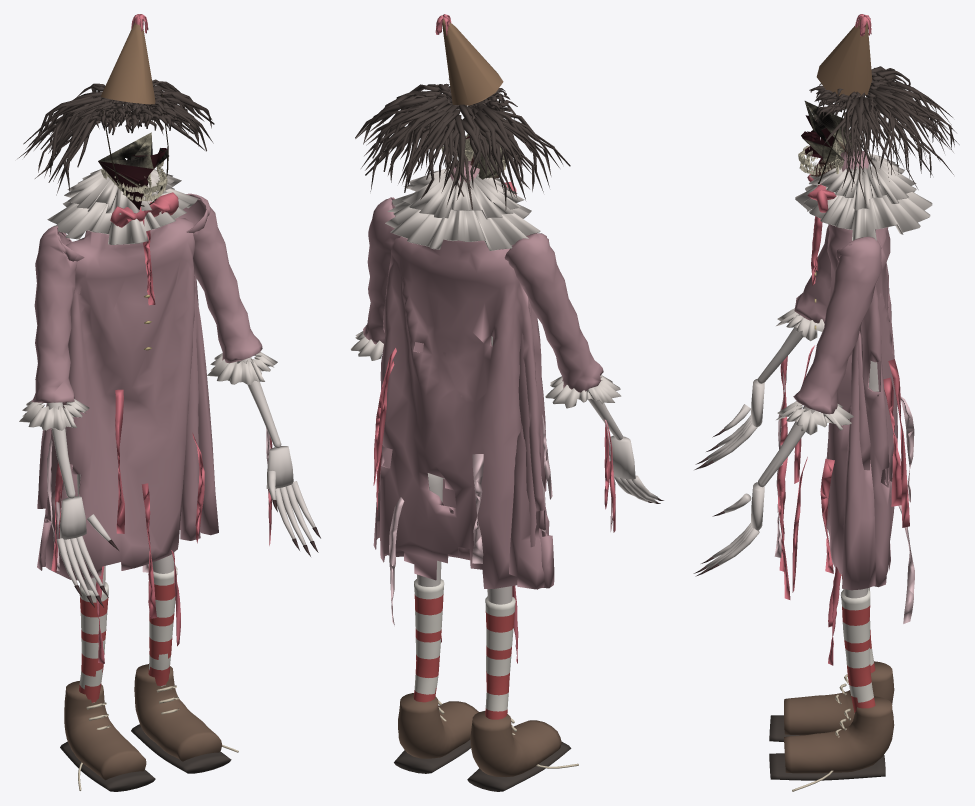
File: party-zombie.glb
3 renders of one model, left to right at view 1: azimuth 30°, elevation 25°; view 2: azimuth 150°, elevation 25°; view 3: azimuth 270°, elevation 25°, orthographic. The views are drawn at different scales.
Parts seen in each view (by area): view 1: Torso, HeadMesh, ArmL, ArmR, LegR, LegL; view 2: Torso, HeadMesh, ArmL, LegL, LegR, ArmR; view 3: Torso, HeadMesh, ArmR, LegR, ArmL, LegL.
Boxes of the visible parts, box(x1,y1,x2,y2) form: Torso: box(37, 168, 218, 618); HeadMesh: box(17, 14, 214, 209); ArmL: box(19, 225, 118, 607); ArmR: box(178, 193, 320, 556); LegR: box(131, 550, 238, 773); LegL: box(60, 474, 155, 791); Torso: box(373, 161, 554, 625); HeadMesh: box(355, 14, 570, 210); ArmL: box(504, 233, 663, 532); LegL: box(467, 585, 578, 791); LegR: box(394, 473, 478, 773); ArmR: box(350, 197, 400, 360); Torso: box(792, 150, 932, 623); HeadMesh: box(798, 14, 959, 205); ArmR: box(693, 236, 882, 599); LegR: box(769, 566, 894, 791); ArmL: box(694, 225, 831, 469); LegL: box(769, 569, 894, 741).
Bounding box in the file's own units: 0.8138 × 2.22 × 0.7229.
22 materials, 2 textured.
